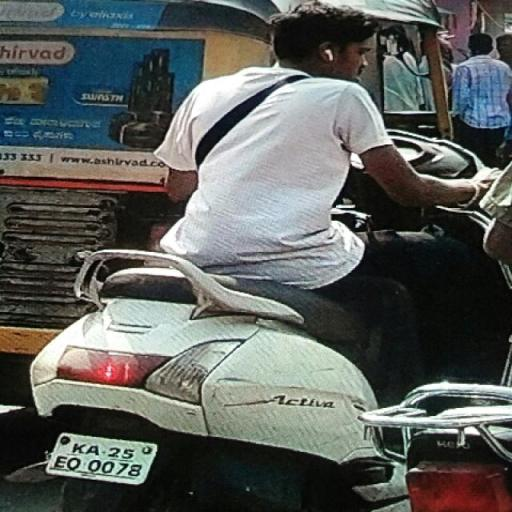bike: (29, 2, 512, 512)
numberplate: (46, 425, 155, 488)
withouthelmet: (274, 4, 372, 78)
